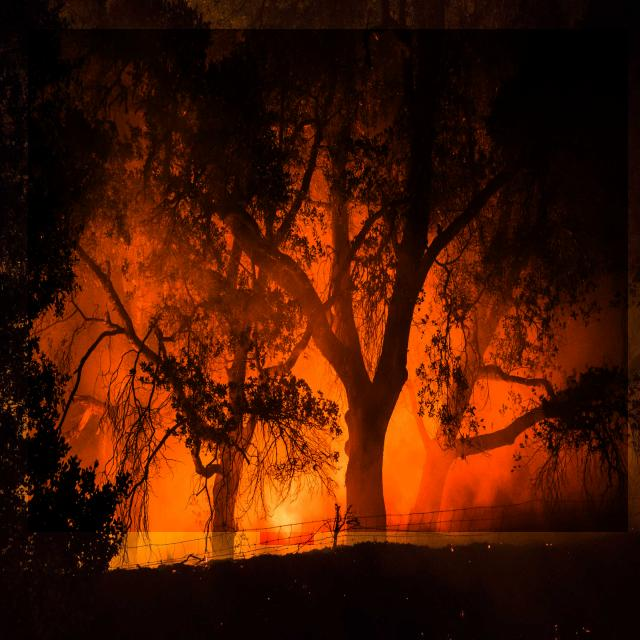Fire: (260, 478, 314, 545)
Smoke: (28, 29, 628, 532)
